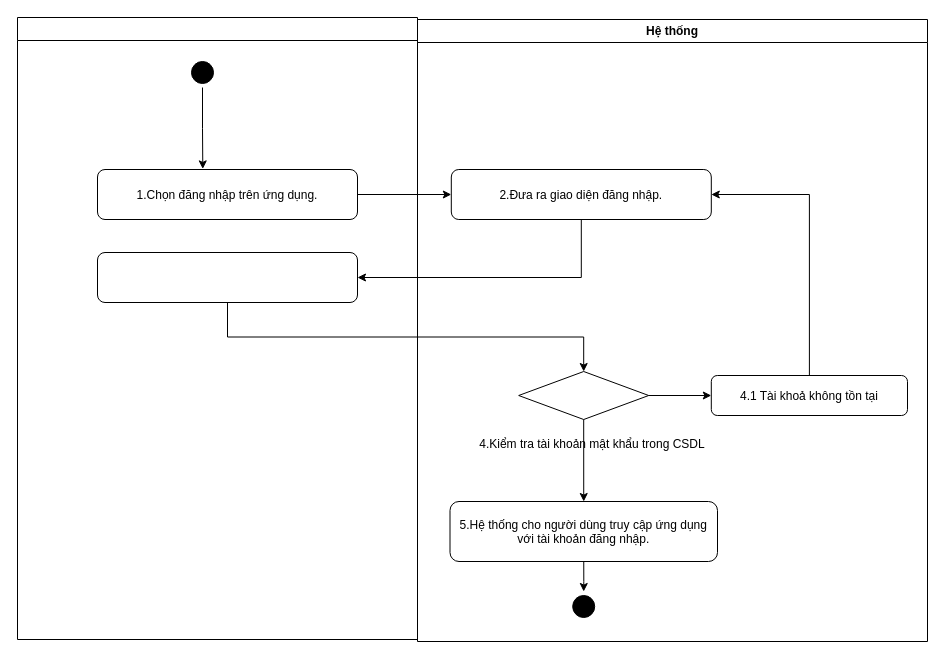
This 945x659 diagram has some shape labels left out. The shapes that lost their labels are listed below. From the top down, each one's box as (x1, y1, x2, y2) in pixels, then its label:
(96, 252, 358, 302): 3.Điền thông tin đăng nhập và chọn đăng nhập.
(16, 16, 418, 640): Người dùng
